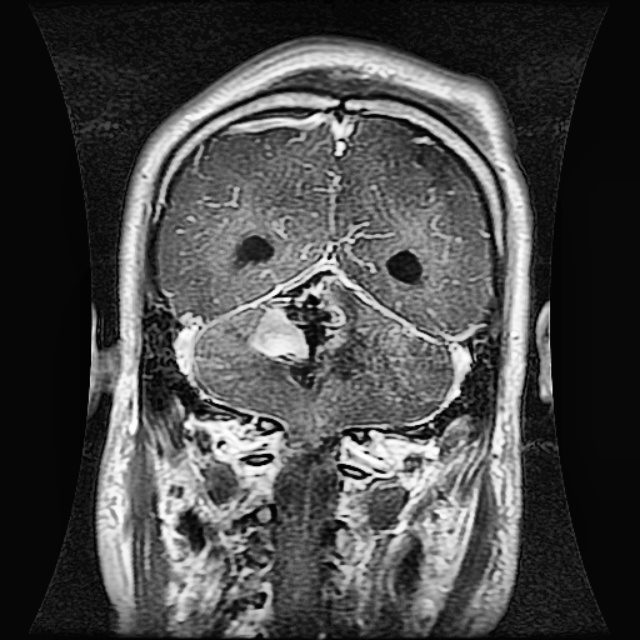Meningioma: (247, 270, 348, 389)
